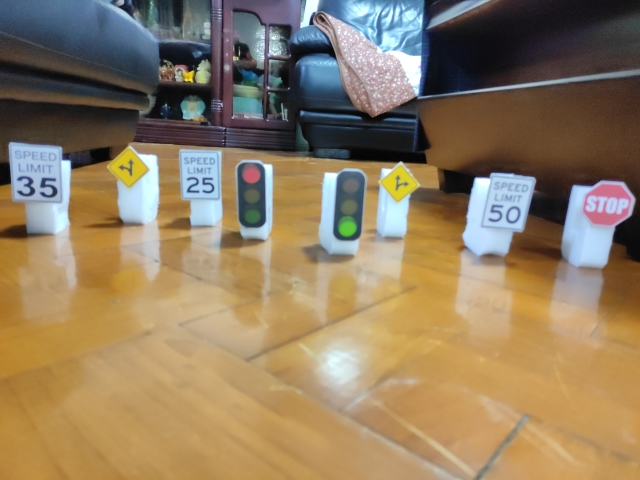Green Traffic Light: (335, 169, 362, 241)
Red Traffic Light: (237, 160, 268, 229)
Speed Limit 25: (179, 149, 221, 199)
Speed Limit 35: (8, 142, 63, 204)
Speed Limit 50: (482, 175, 535, 231)
Stop Sign: (580, 181, 634, 228)
Straight Or Left Sign: (109, 147, 149, 189)
Straight Or Right Sign: (381, 163, 418, 202)
